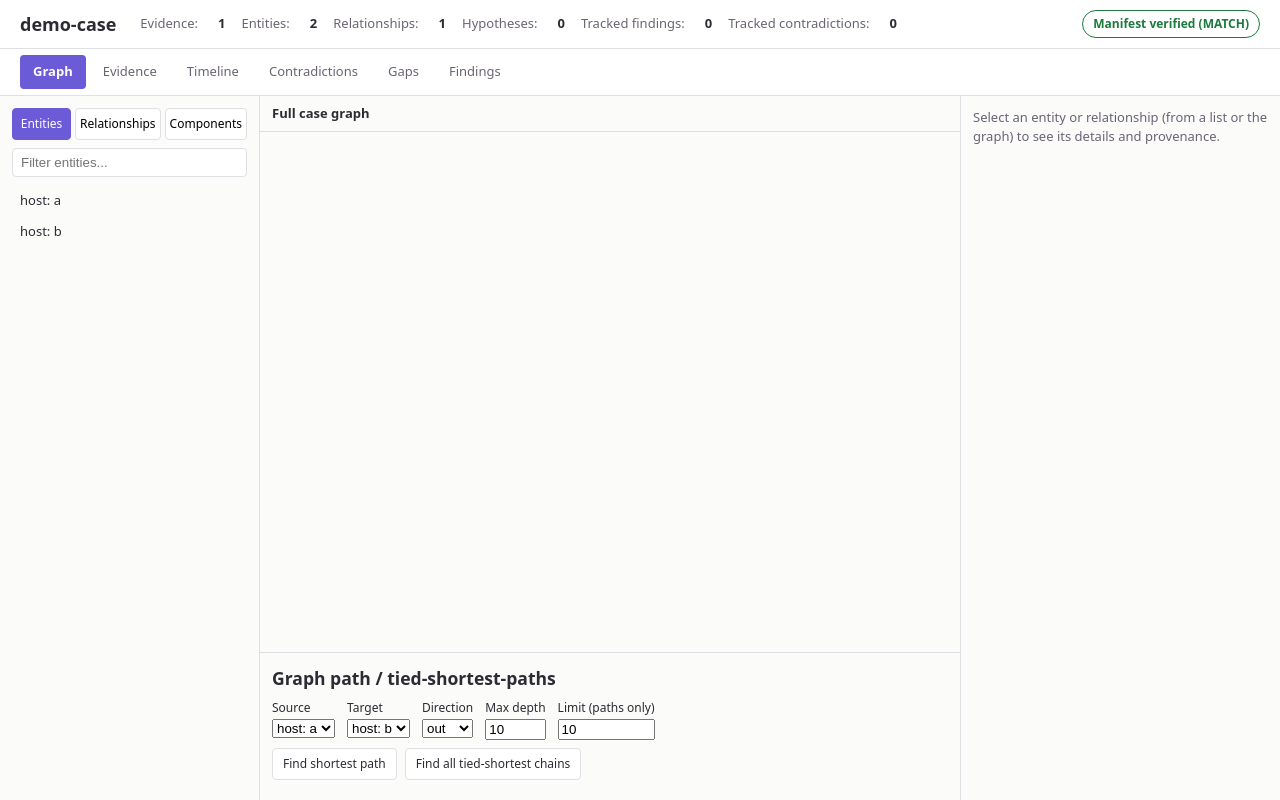
it: App › selecting a relationship shows its panel and clears the entity selection
Expected: the header with test id "case-header" is shown, [0,0,1279,49]
Click the button "host: a" at (130, 200), box [12,184,247,216]
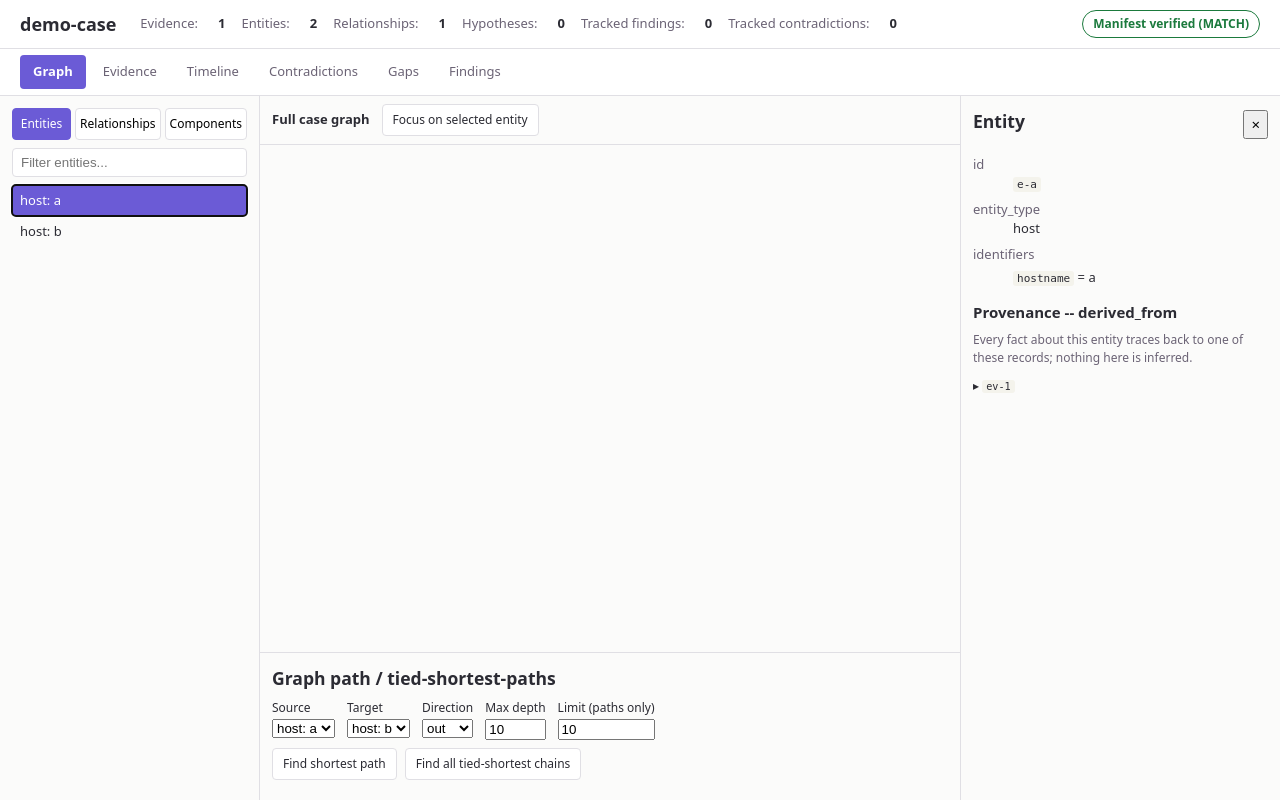
Expected: the element with test id "entity-detail" is shown, [973,108,1268,397]
Click the button "Relationships" at (118, 124), box [75,108,161,140]
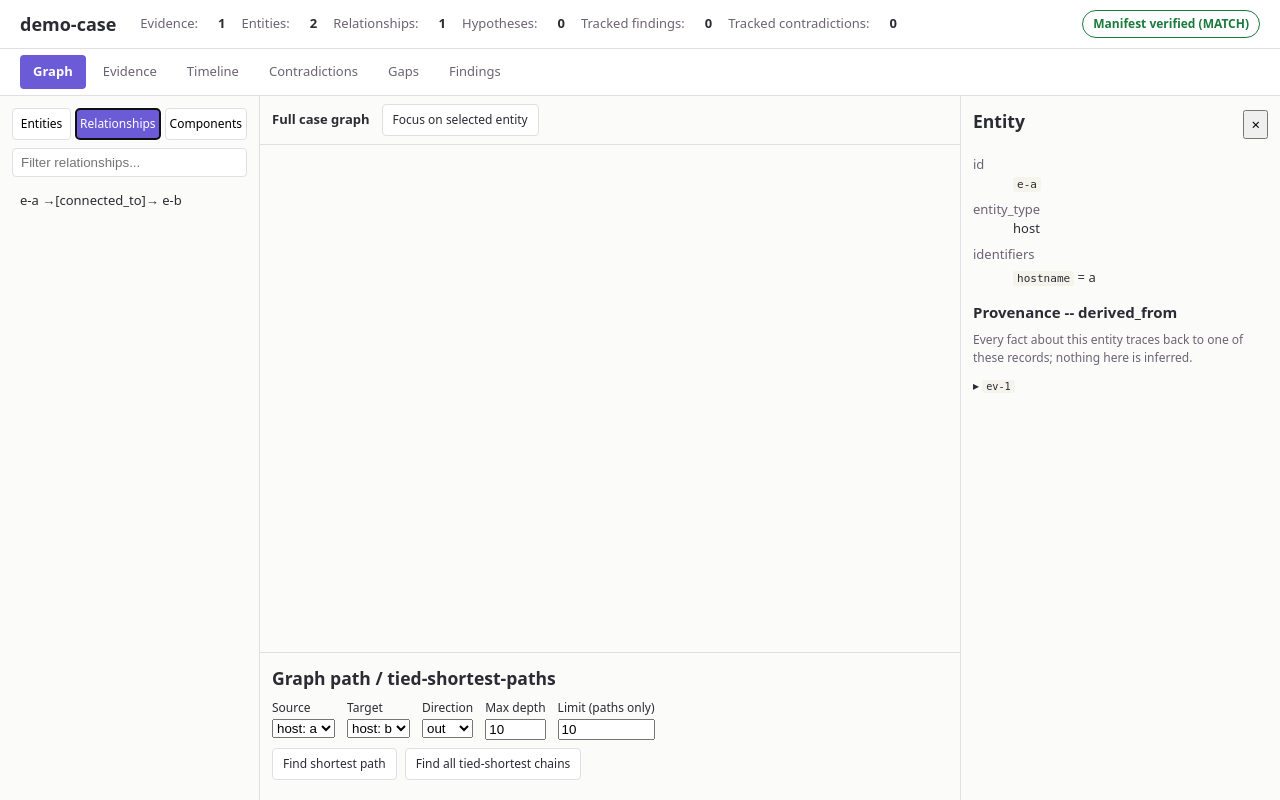
Click the button "e-a →[connected_to]→ e-b" at (130, 200), box [12,184,247,216]
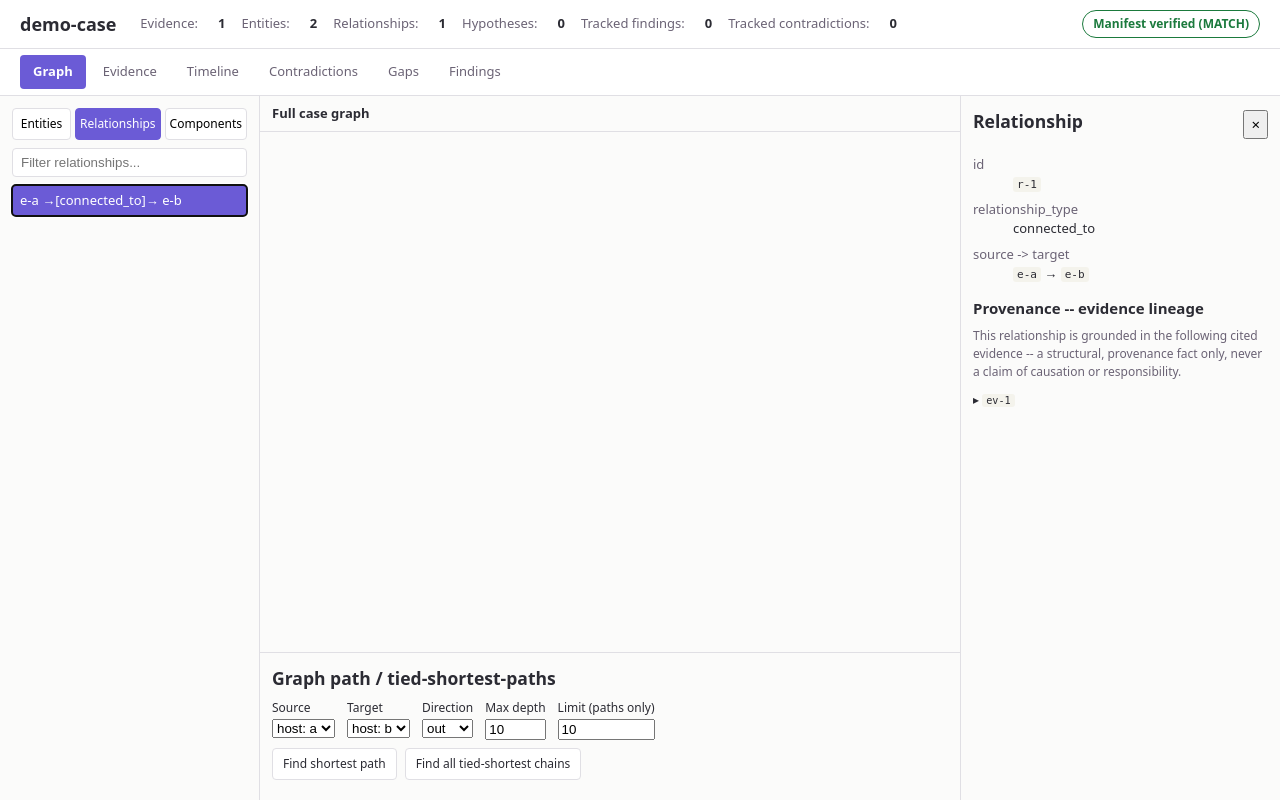
Expected: the element with test id "entity-detail" is gone
Expected: the element with test id "relationship-detail" is shown, [973,108,1268,411]
